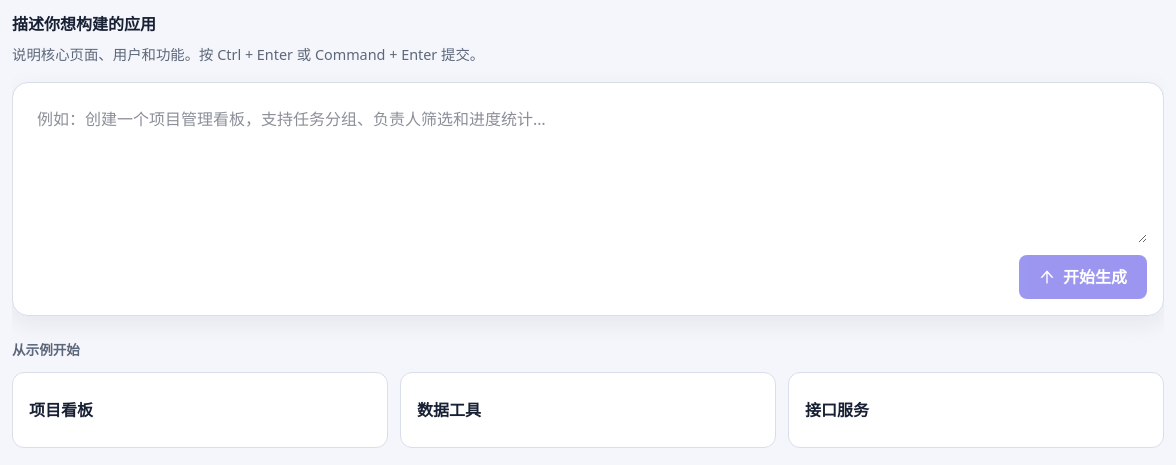
Scenario: PromptComposer › uses a visible label and copies an example into the textarea without submitting
Expected: the label "描述你想构建的应用" is shown, [12,13,156,35]
Expected: the text "说明核心页面、用户和功能。按 Ctrl + Enter 或 Command + Enter 提交。" is shown, [12,45,484,64]
Step 1. Click the button "项目看板" → (61, 410), box [12,372,388,448]
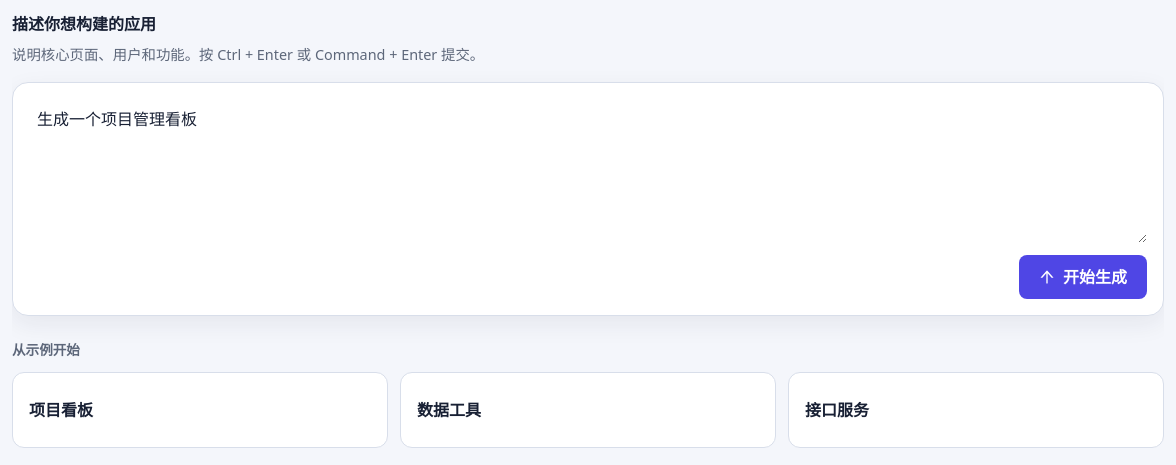
Now the text box labelled "描述你想构建的应用" holds "生成一个项目管理看板", box [29,99,1147,243]
